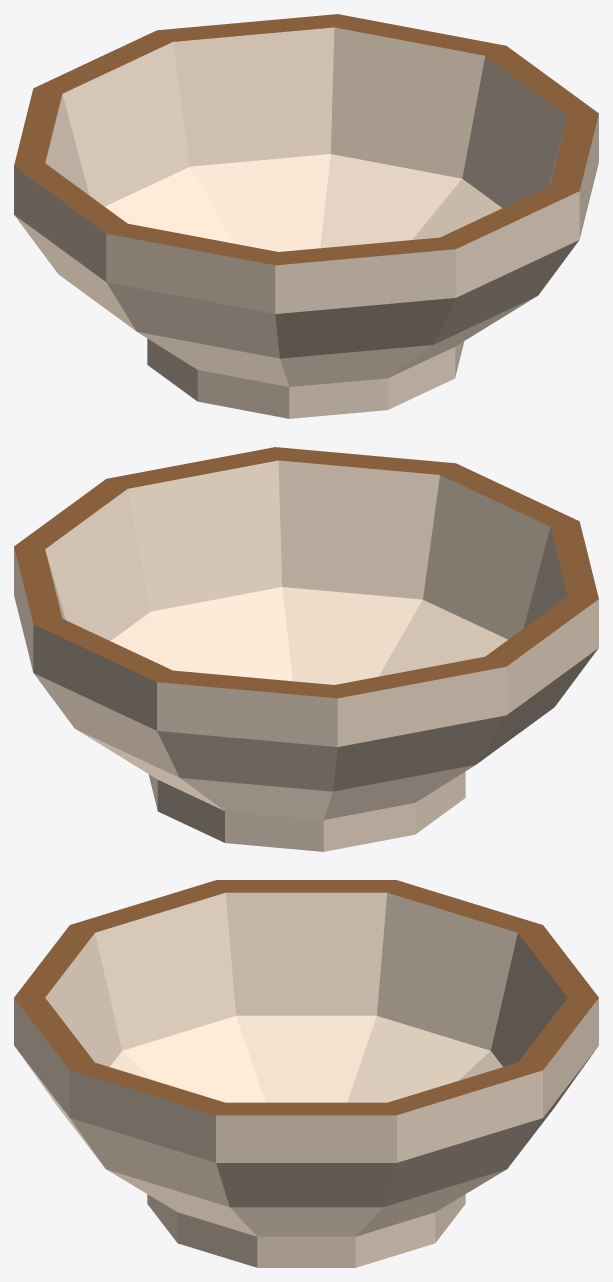
File: bowl-soup-christmas.glb
3 renders of one model, top to bottom at view 1: azimuth 30°, elevation 25°; view 2: azimuth 150°, elevation 25°; view 3: azimuth 270°, elevation 25°, orthographic. The views are drawn at different scales.
Parts seen in each view (by area): view 1: bowl_soup_christmas; view 2: bowl_soup_christmas; view 3: bowl_soup_christmas.
Part boxes in pixels (bbox=[...]): bowl_soup_christmas: bbox=[14, 14, 598, 418]; bowl_soup_christmas: bbox=[14, 447, 598, 851]; bowl_soup_christmas: bbox=[14, 880, 598, 1267].
Size of the model in its own units: 0.2003 by 0.0819 by 0.2106.
1 material, 1 textured.
